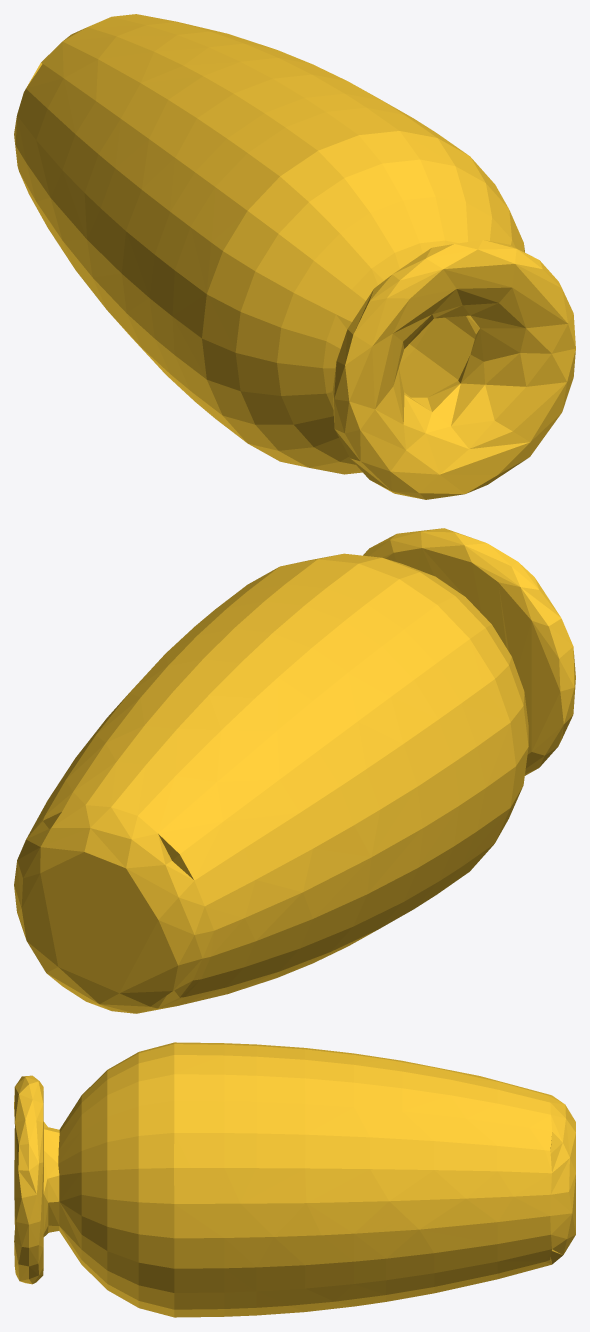
The model's file is model_align.obj.
3 renders of one model, top to bottom at view 1: azimuth 30°, elevation 25°; view 2: azimuth 150°, elevation 25°; view 3: azimuth 270°, elevation 25°, orthographic. The views are drawn at different scales.
Size of the model in its own units: 0.0842 by 0.0842 by 0.1714.
